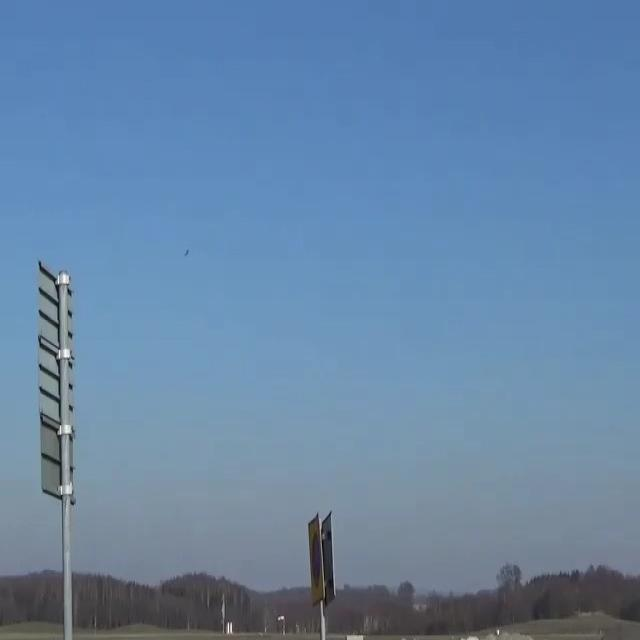bird: (182, 248, 190, 258)
